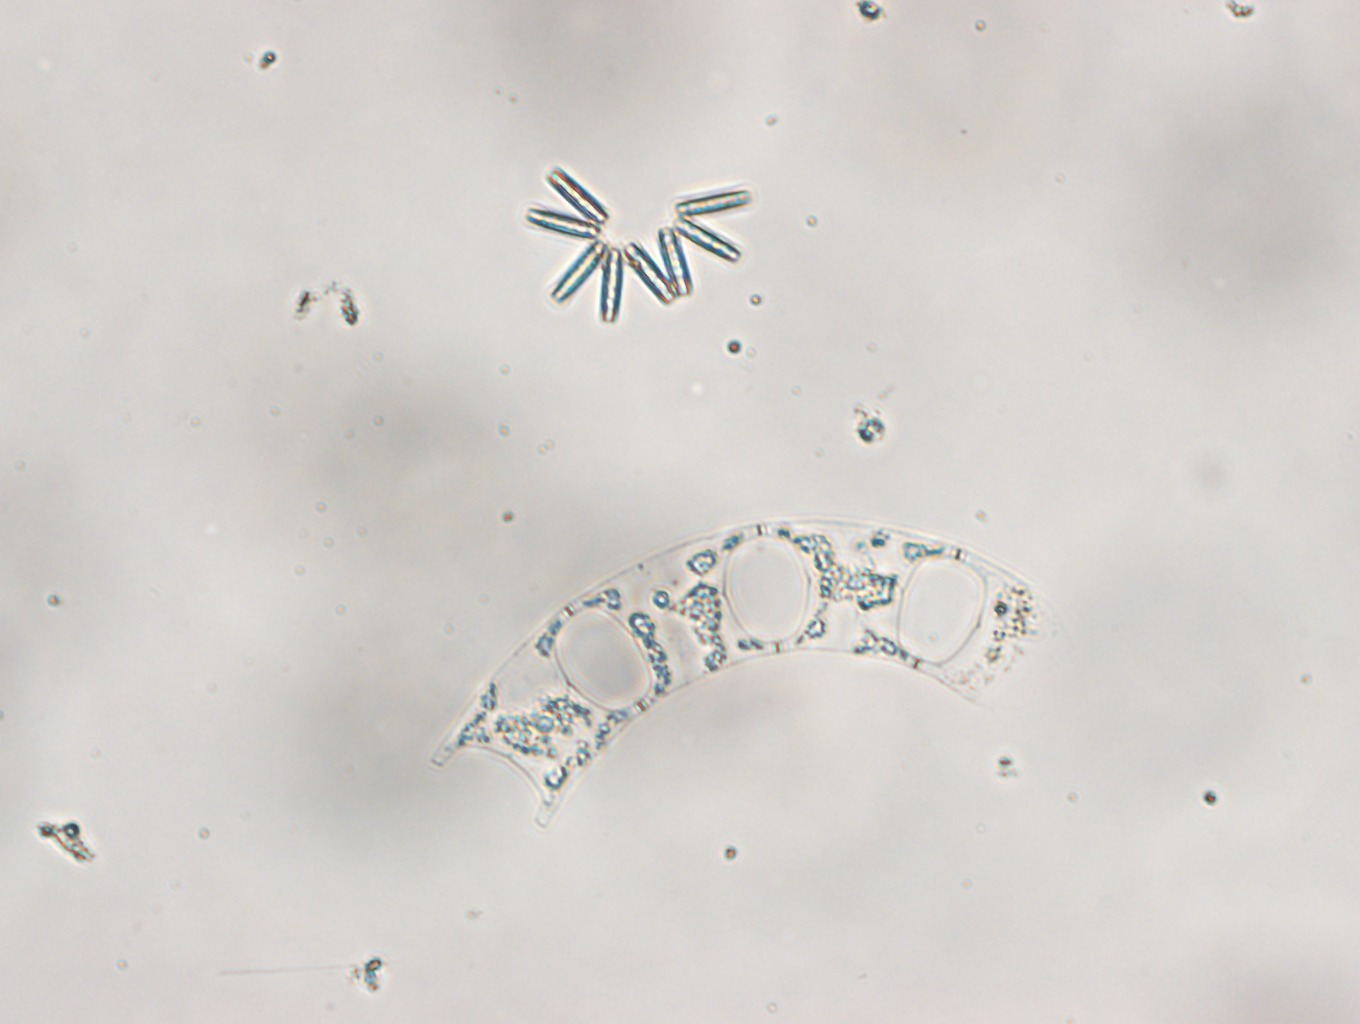eucampia: (430, 517, 1036, 828)
thalassionema nitzschioides: (524, 161, 755, 327)
